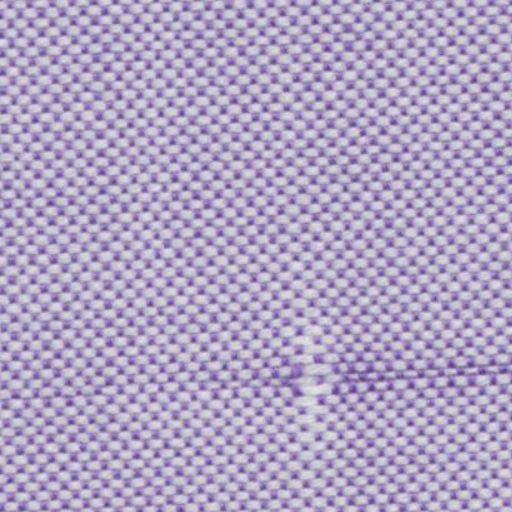DaiSha: (268, 302, 364, 458)
